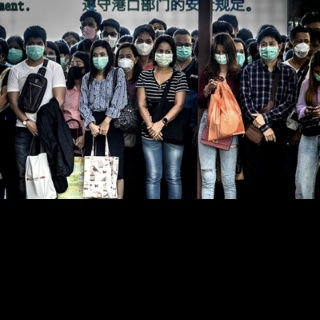with_mask: (258, 39, 279, 61), (292, 37, 312, 58), (173, 40, 192, 60), (25, 40, 44, 59), (118, 52, 136, 72), (155, 47, 173, 67), (134, 37, 152, 56), (93, 50, 109, 70), (69, 58, 84, 79), (7, 44, 23, 63), (232, 47, 246, 68), (101, 31, 118, 48), (81, 20, 96, 39), (214, 47, 230, 64), (313, 68, 320, 84)
